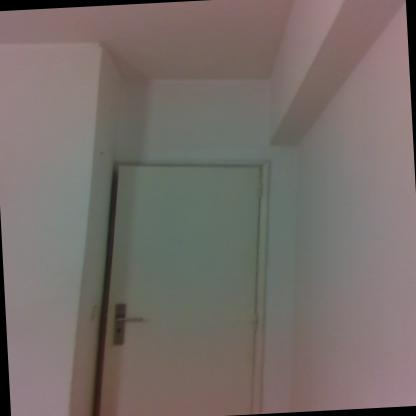closed: (85, 139, 299, 415)
